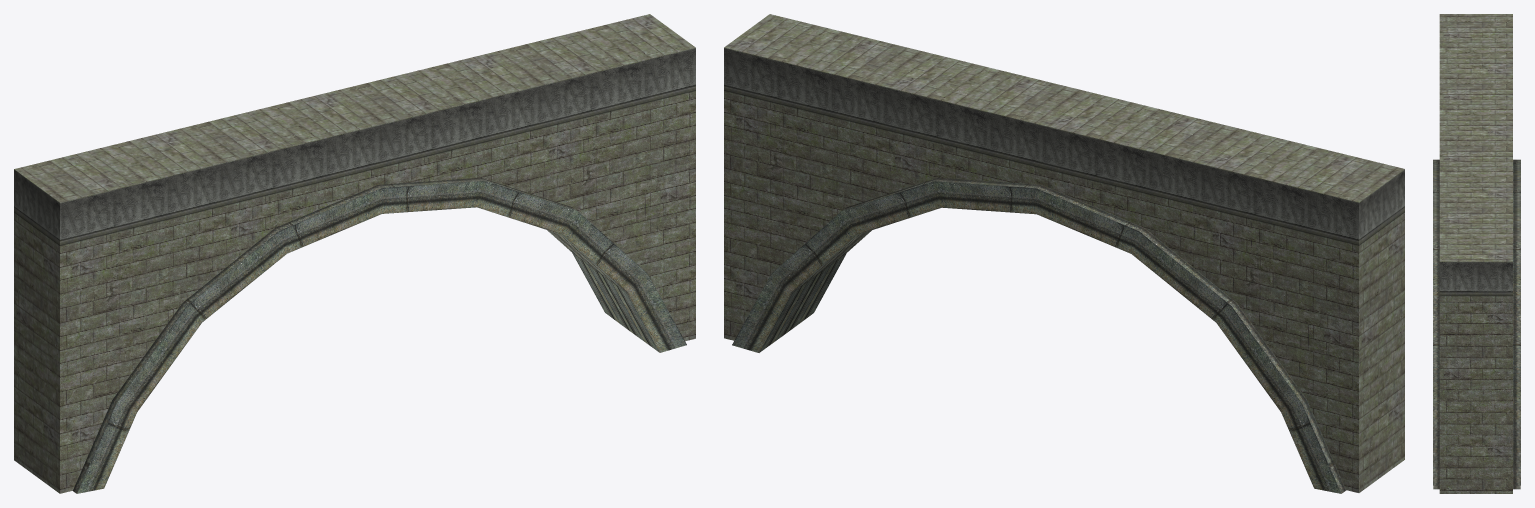
File: Bigarch_lod.fbx
The picture shows the model from 3 angles, left to right: view 1: azimuth 30°, elevation 25°; view 2: azimuth 150°, elevation 25°; view 3: azimuth 270°, elevation 25°; orthographic projection. The views are drawn at different scales.
Visible parts, largest first — view 1: Mesh Object; view 2: Mesh Object; view 3: Mesh Object.
Boxes of the visible parts, x1,y1,x2,y2 form: Mesh Object: [14, 14, 695, 493]; Mesh Object: [724, 14, 1404, 493]; Mesh Object: [1433, 14, 1520, 493].
Size of the model in its own units: 8 by 3.52 by 1.2.
